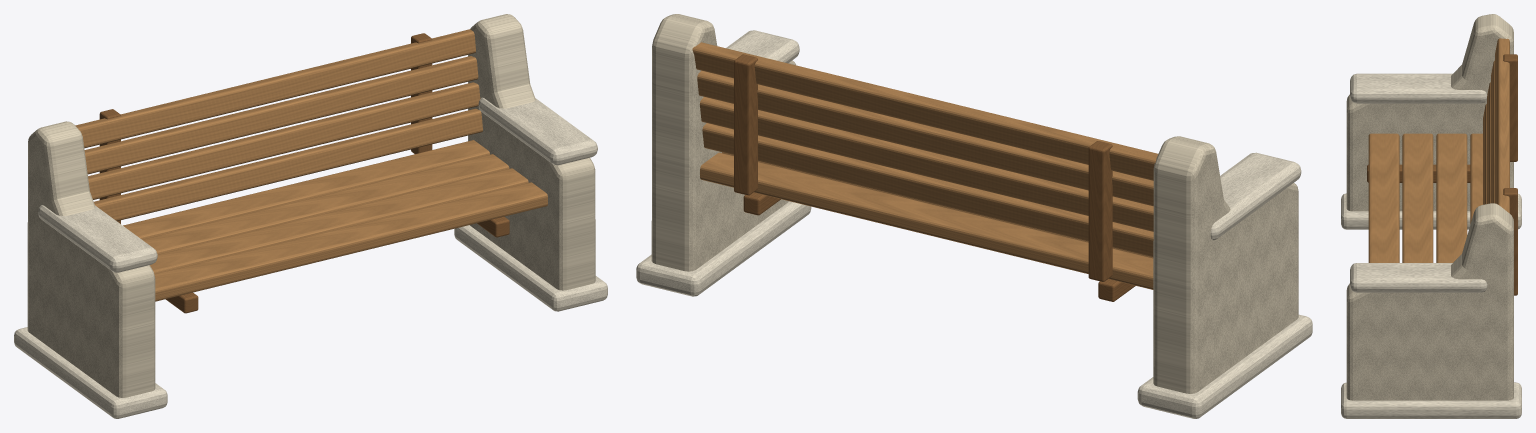
File: bench.glb
The picture shows the model from 3 angles, left to right: view 1: azimuth 30°, elevation 25°; view 2: azimuth 150°, elevation 25°; view 3: azimuth 270°, elevation 25°; orthographic projection. The views are drawn at different scales.
Visible parts, largest first — view 1: bench; view 2: bench; view 3: bench.
Boxes of the visible parts, x1,y1,x2,y2 form: bench: (14, 14, 607, 418); bench: (636, 14, 1312, 418); bench: (1341, 14, 1521, 418).
Size of the model in its own units: 2.23 by 0.9756 by 0.8.
5 materials, 4 textured.
